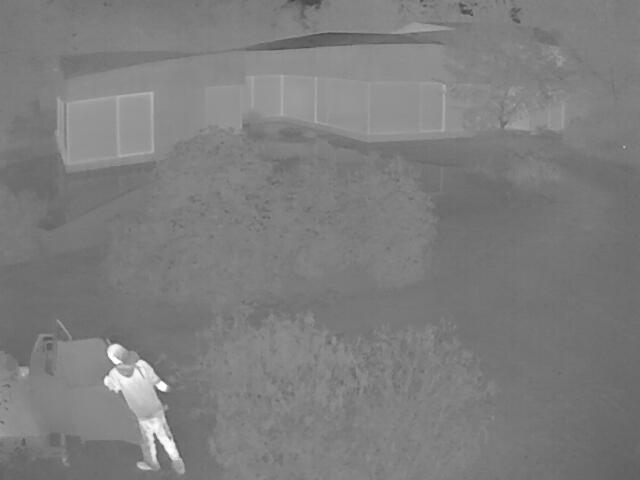person: (102, 342, 185, 474)
